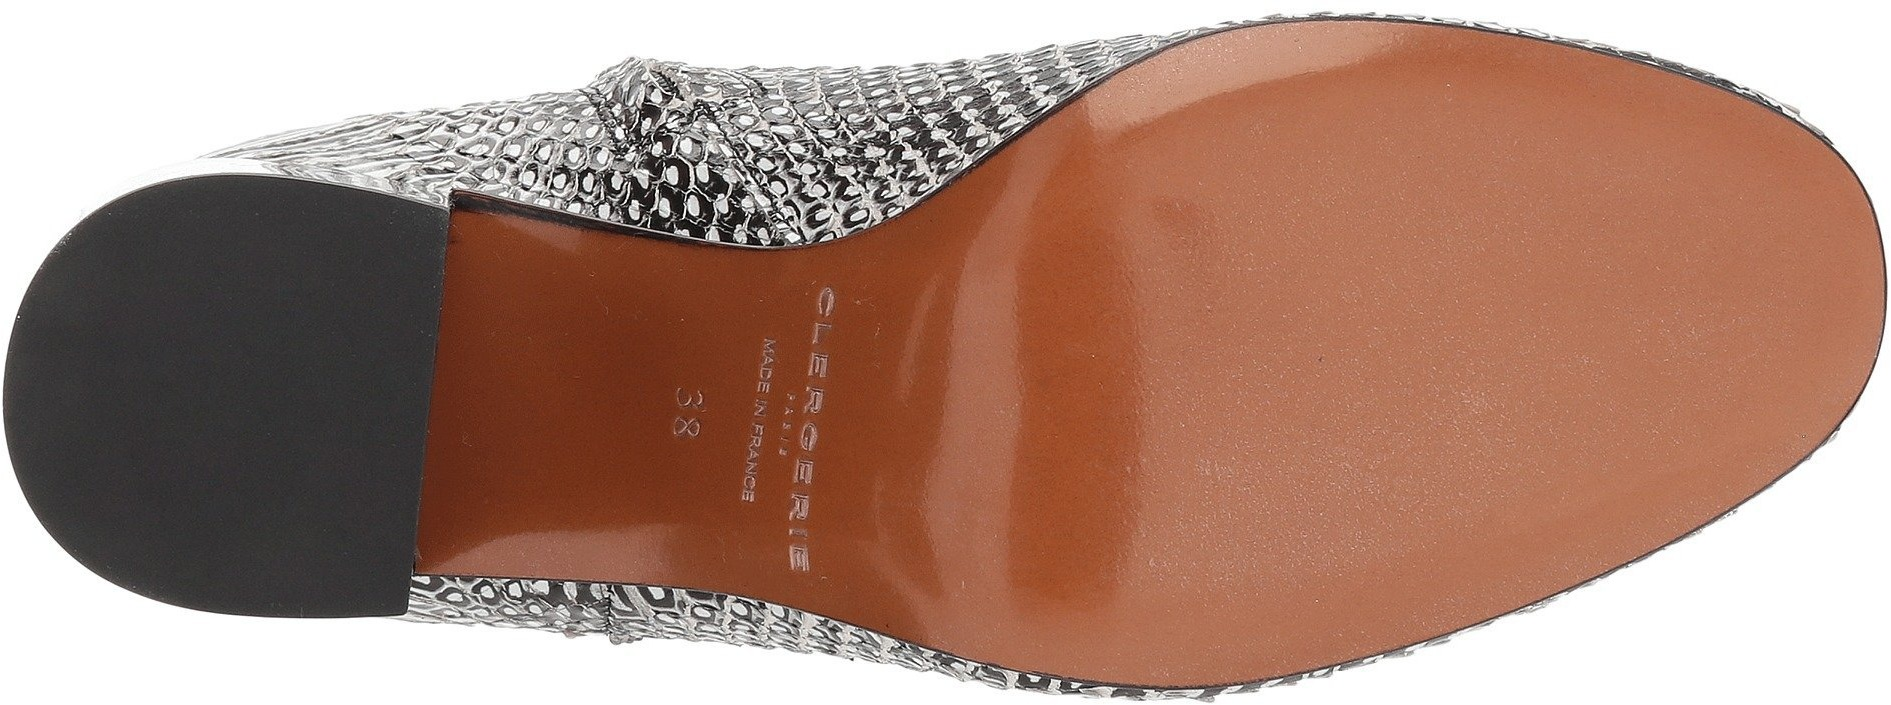other: (1469, 106, 1796, 416), (98, 242, 415, 547), (874, 301, 1172, 597), (1177, 143, 1458, 424), (1231, 429, 1441, 631), (1466, 429, 1624, 562)
